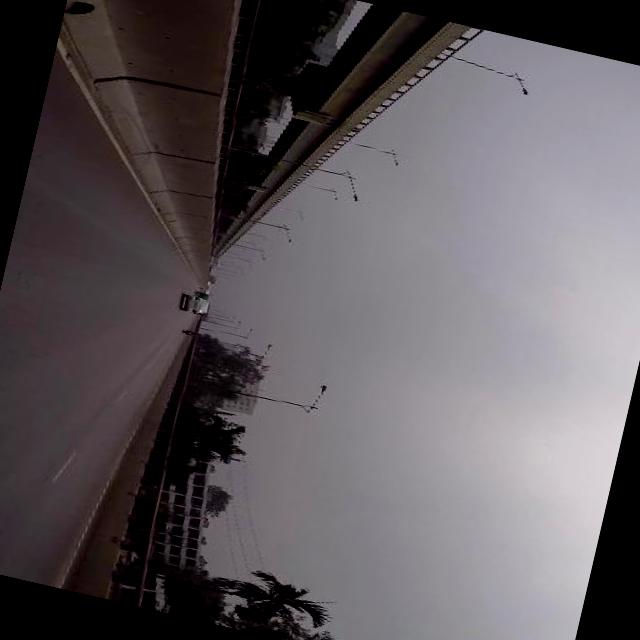car: (180, 294, 209, 317), (196, 292, 208, 302), (199, 288, 210, 296)
motorcycle: (184, 331, 196, 338)
